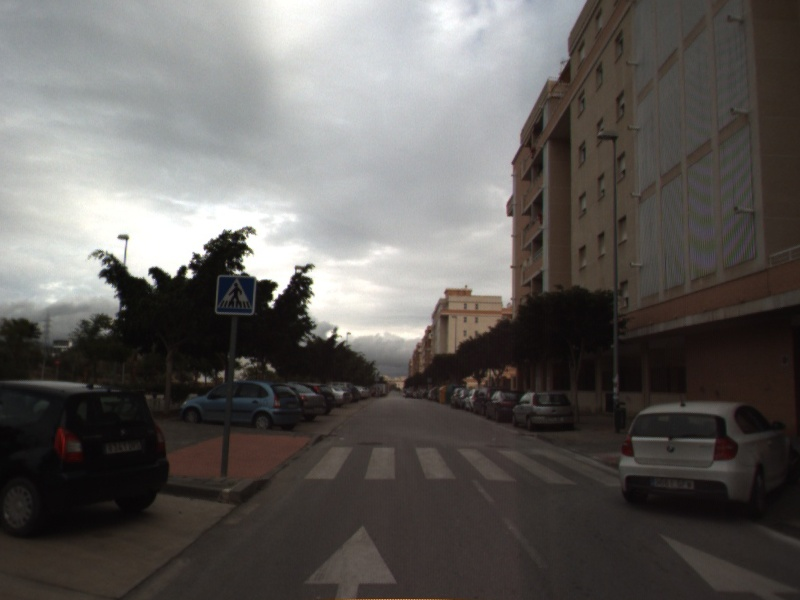STRAIGHT: (656, 531, 800, 600), (300, 522, 400, 600)
